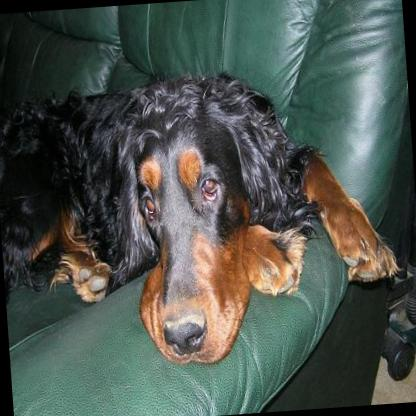Gordon_setter: (0, 53, 409, 378)
